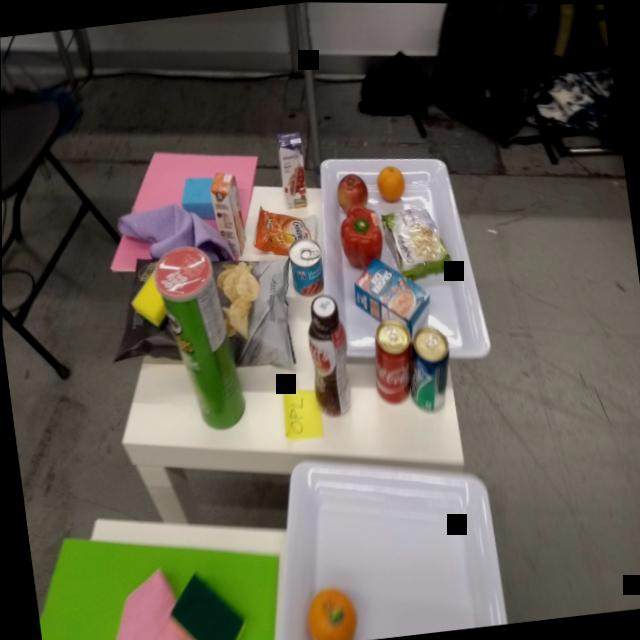apple: (333, 170, 371, 217)
cereal: (347, 245, 437, 347)
chocolate_drink: (299, 292, 361, 420)
coke: (367, 318, 417, 405)
crackers: (248, 198, 321, 262)
grape_juice: (271, 124, 315, 214)
noodles: (377, 196, 458, 286)
orange: (372, 161, 408, 205)
orange_juice: (207, 166, 252, 261)
pringles: (147, 236, 251, 436)
sausages: (286, 236, 328, 299)
sprite: (398, 323, 459, 417)
